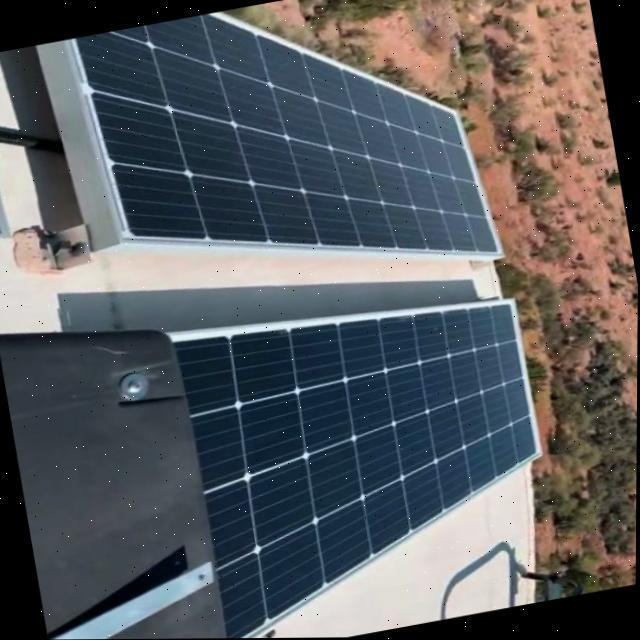Normal Solar Panel: (159, 274, 572, 639), (66, 0, 510, 322)
